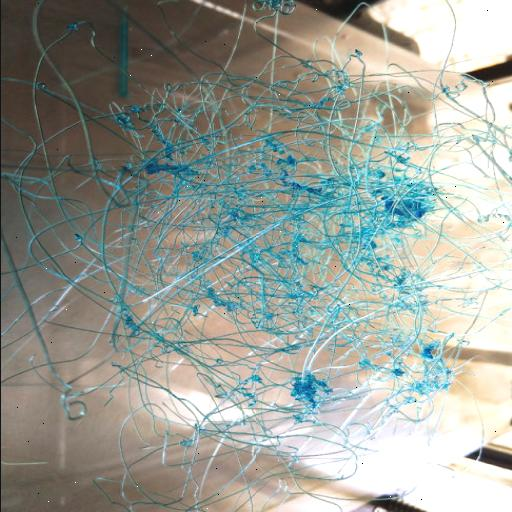spaghetti: (8, 42, 508, 480)
